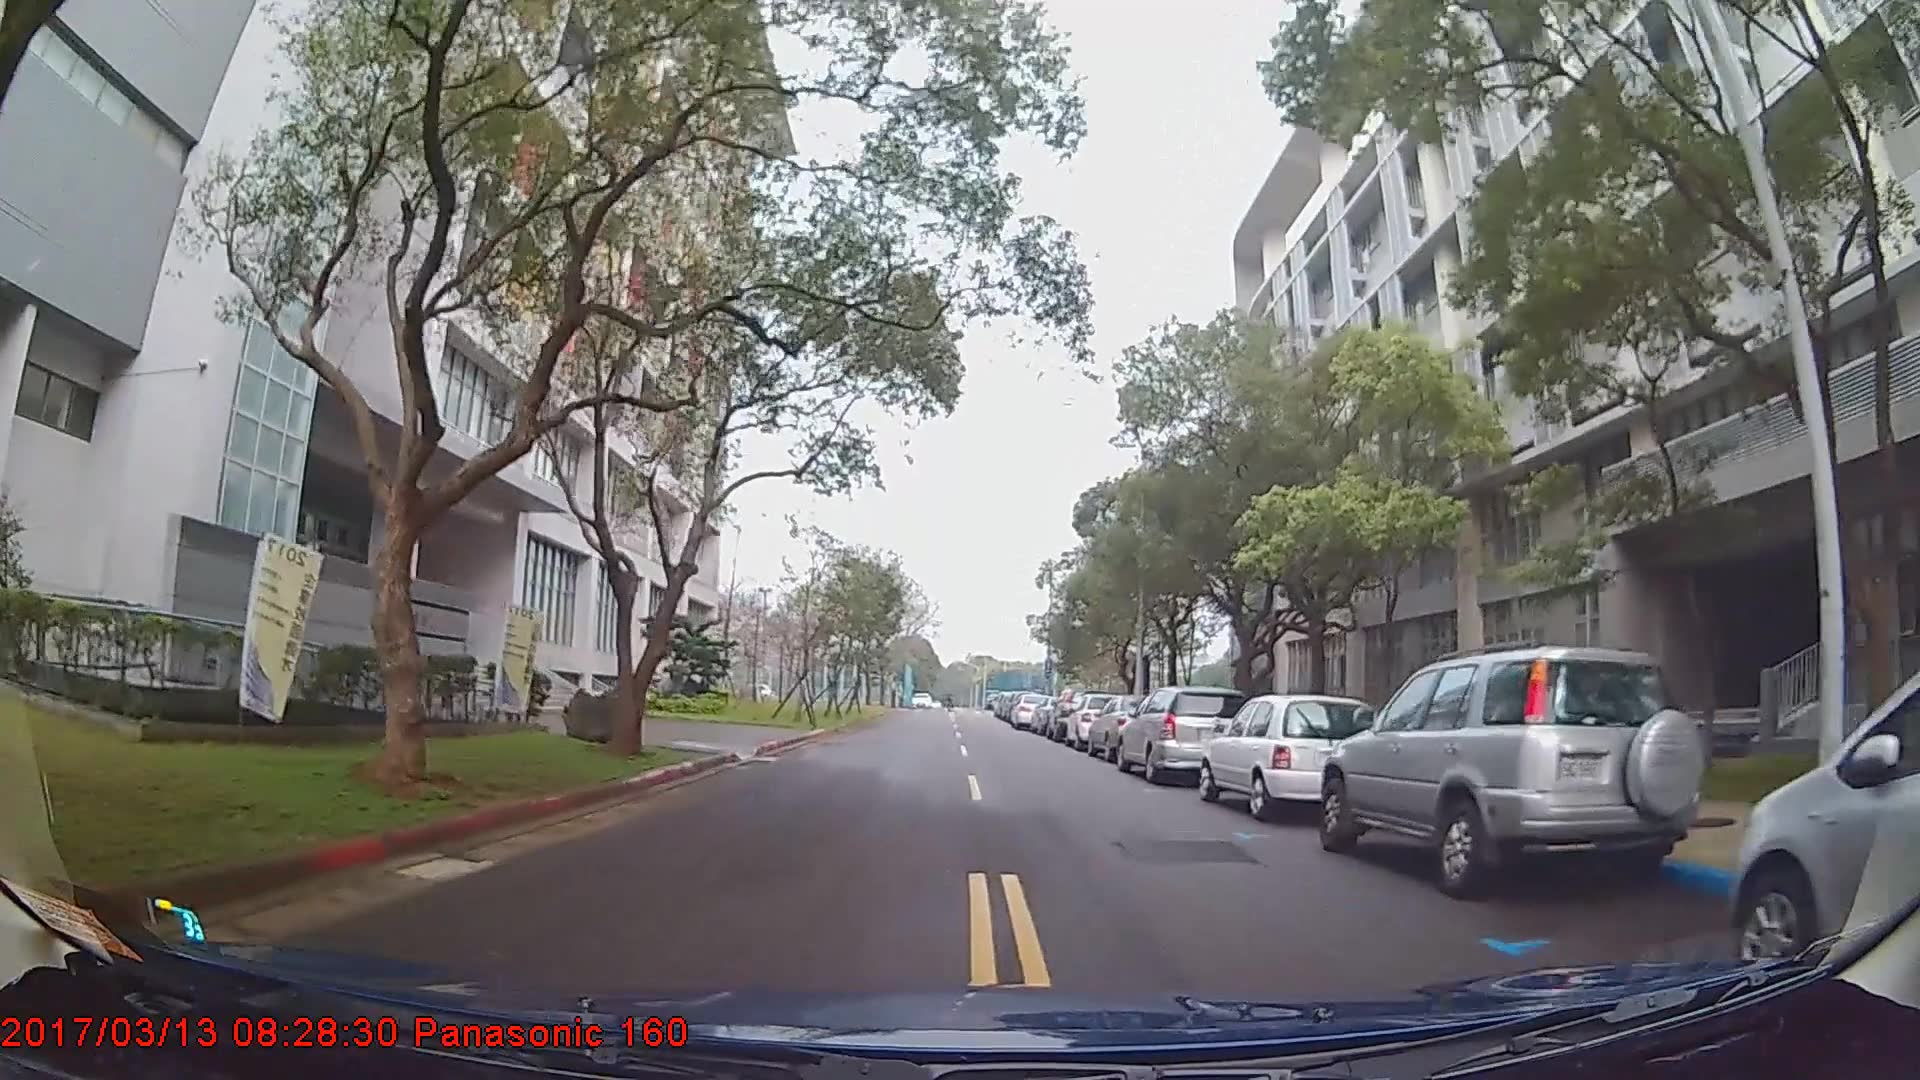vehicle: (1317, 642, 1706, 899), (1731, 667, 1919, 988), (1197, 694, 1378, 820), (1113, 683, 1251, 783), (1007, 690, 1051, 729)
